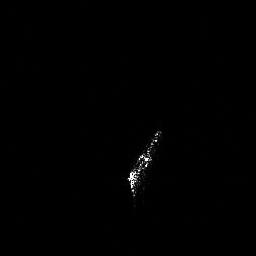ship: (122, 124, 167, 201)
